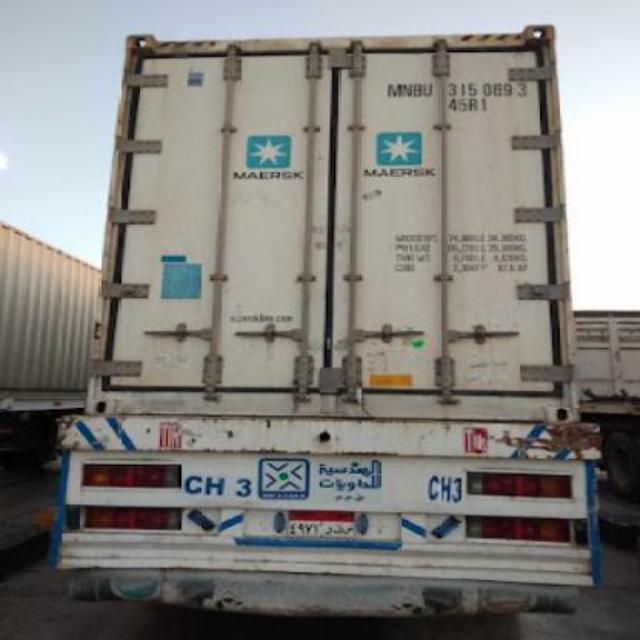0: (484, 84, 492, 96)
1: (458, 84, 466, 96)
3: (516, 84, 528, 96), (448, 84, 456, 96)
5: (466, 81, 478, 97)
6: (492, 81, 502, 97)
9: (502, 84, 516, 96)
B: (412, 84, 422, 96)
M: (386, 85, 402, 98)
N: (402, 84, 412, 96)
U: (424, 84, 432, 96)
